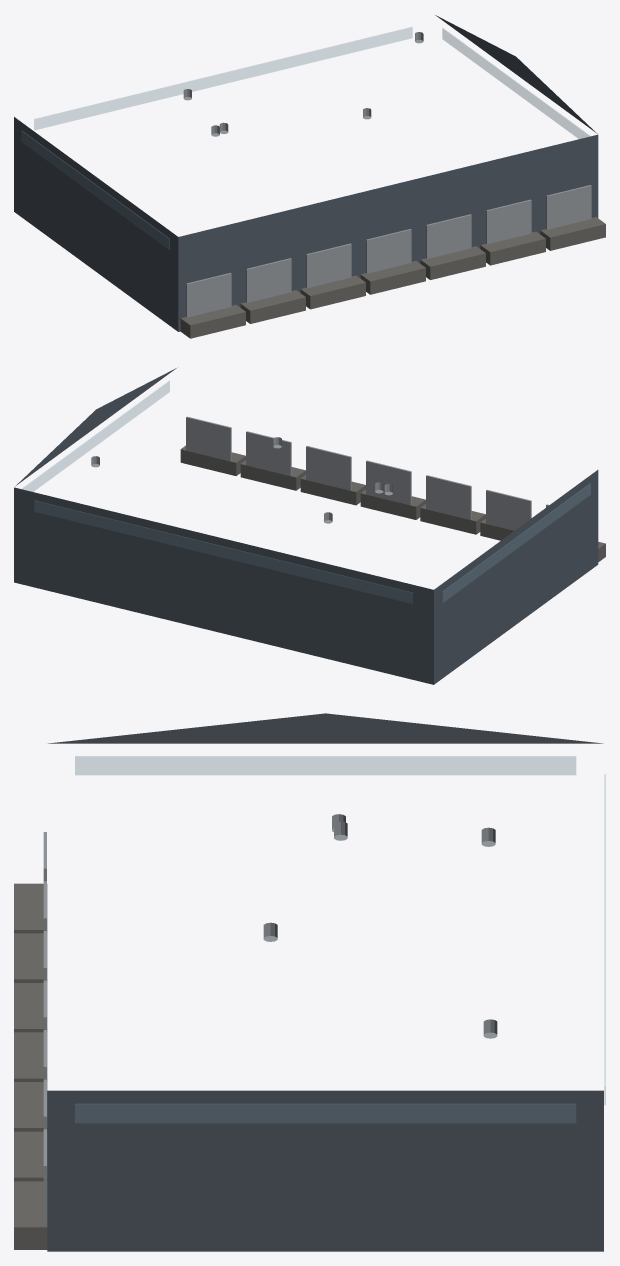
File: warehouse-1.glb
3 views of the same model, one above another, from view 1: azimuth 30°, elevation 25°; view 2: azimuth 150°, elevation 25°; view 3: azimuth 270°, elevation 25° (orthographic). The views are drawn at different scales.
Visible parts, largest first — view 1: warehouse-1; view 2: warehouse-1; view 3: warehouse-1.
Boxes of the visible parts, box(x1,y1,x2,y2) form: warehouse-1: box(14, 15, 605, 338); warehouse-1: box(14, 368, 605, 684); warehouse-1: box(14, 713, 605, 1251).
Size of the model in its own units: 39.68 by 10.15 by 28.48.
